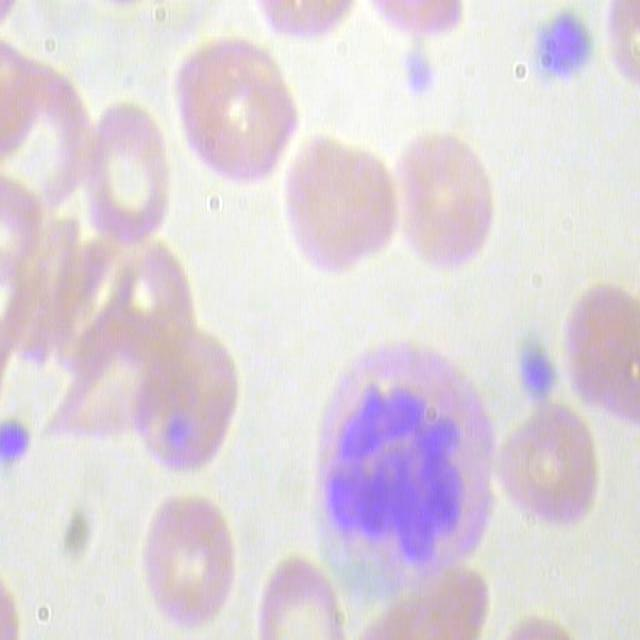Platelets: (529, 11, 597, 92), (515, 336, 561, 408), (401, 41, 440, 96), (0, 414, 31, 478)
RBC: (171, 38, 305, 194), (128, 484, 243, 639), (389, 125, 504, 280), (283, 125, 398, 280), (128, 325, 243, 480), (490, 407, 602, 536), (81, 103, 175, 253), (567, 274, 639, 426), (255, 549, 347, 639)
WBC: (300, 333, 500, 604)
